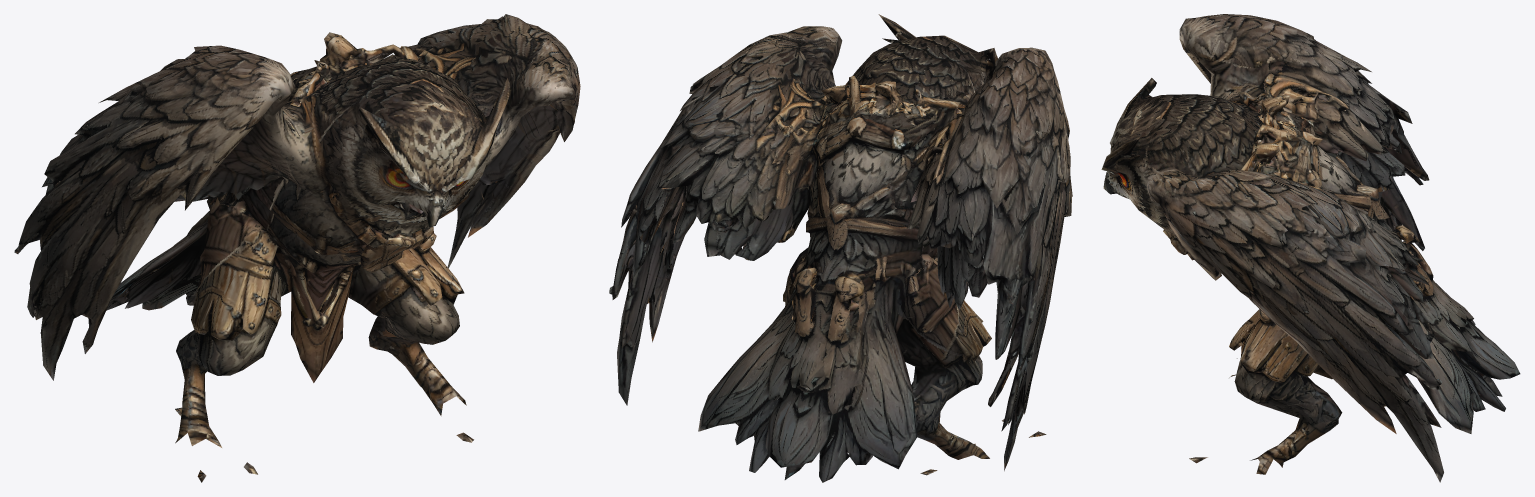
The model's file is Owl.glb.
The picture shows the model from 3 angles, left to right: view 1: azimuth 30°, elevation 25°; view 2: azimuth 150°, elevation 25°; view 3: azimuth 270°, elevation 25°; orthographic projection. The views are drawn at different scales.
Visible parts, largest first — view 1: texture_mapping; view 2: texture_mapping; view 3: texture_mapping.
Part boxes in pixels (box(x1,y1,x2,y2)): texture_mapping: box(14, 14, 580, 482); texture_mapping: box(609, 14, 1072, 482); texture_mapping: box(1101, 14, 1520, 482).
Size of the model in its own units: 0.8691 by 0.7456 by 0.7846.
1 material, 1 textured.
